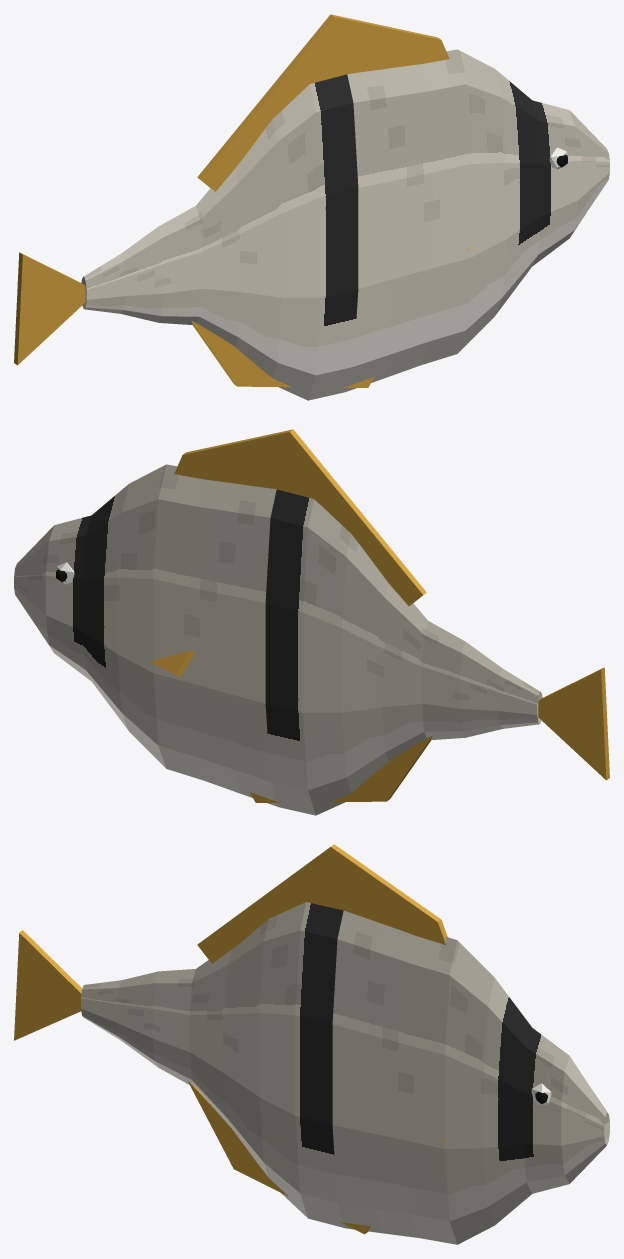
Rendered from old_wife.glb.
The picture shows the model from 3 angles, top to bottom: view 1: azimuth 30°, elevation 25°; view 2: azimuth 150°, elevation 25°; view 3: azimuth 330°, elevation 25°; orthographic projection.
Visible parts, largest first — view 1: fish_old_wife; view 2: fish_old_wife; view 3: fish_old_wife.
Part boxes in pixels (box(x1,y1,x2,y2)): fish_old_wife: box(14, 14, 609, 400); fish_old_wife: box(14, 429, 609, 815); fish_old_wife: box(14, 844, 609, 1244).
Size of the model in its own units: 1.13 by 0.6934 by 0.1177.
4 materials, 1 textured.
